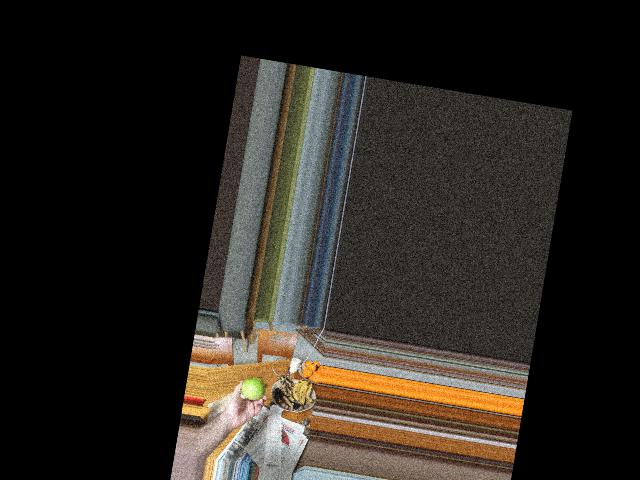apple: (237, 373, 267, 404)
